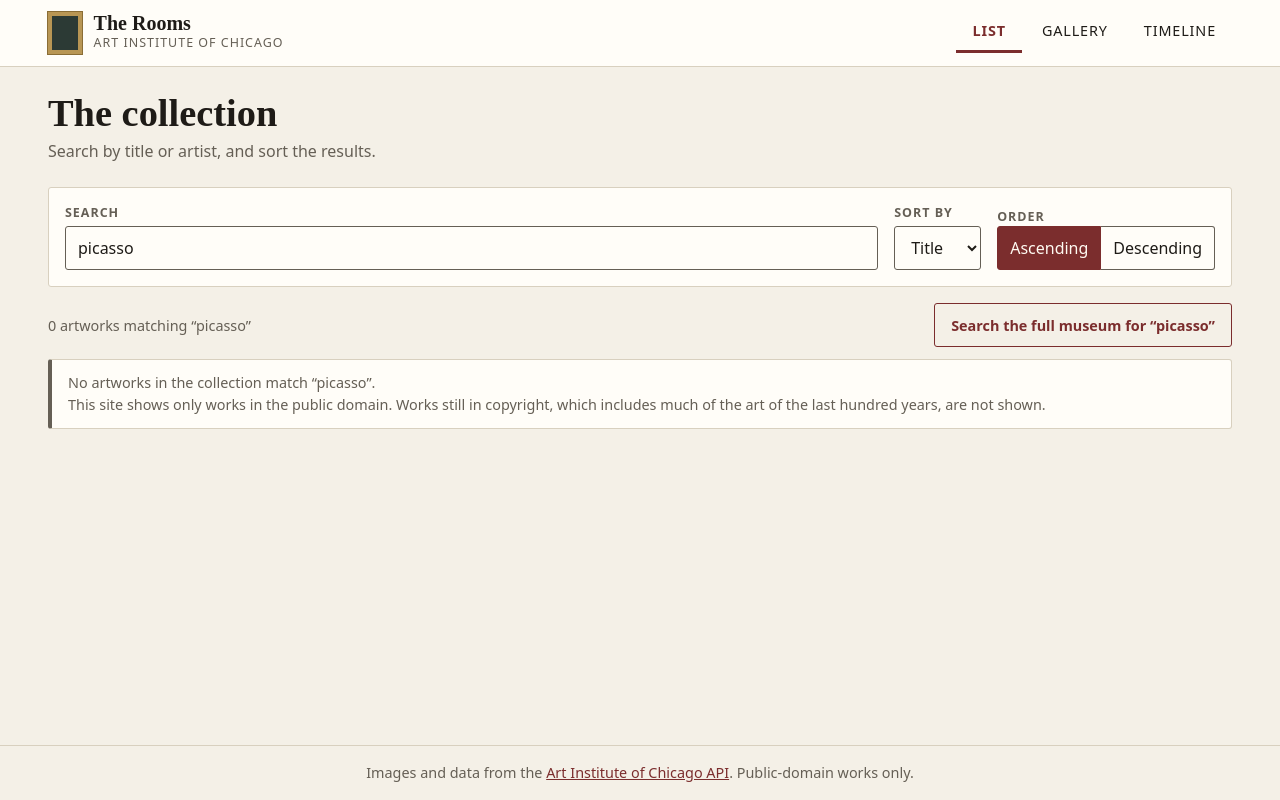
Scenario: ListView › explains it again when the full museum finds nothing either
Expected: the text "0 artworks matching “picasso”" is shown, [48,315,251,336]
Click the button "Search the full museum for “picasso”". click: (1083,326)
box: [934,304,1232,348]
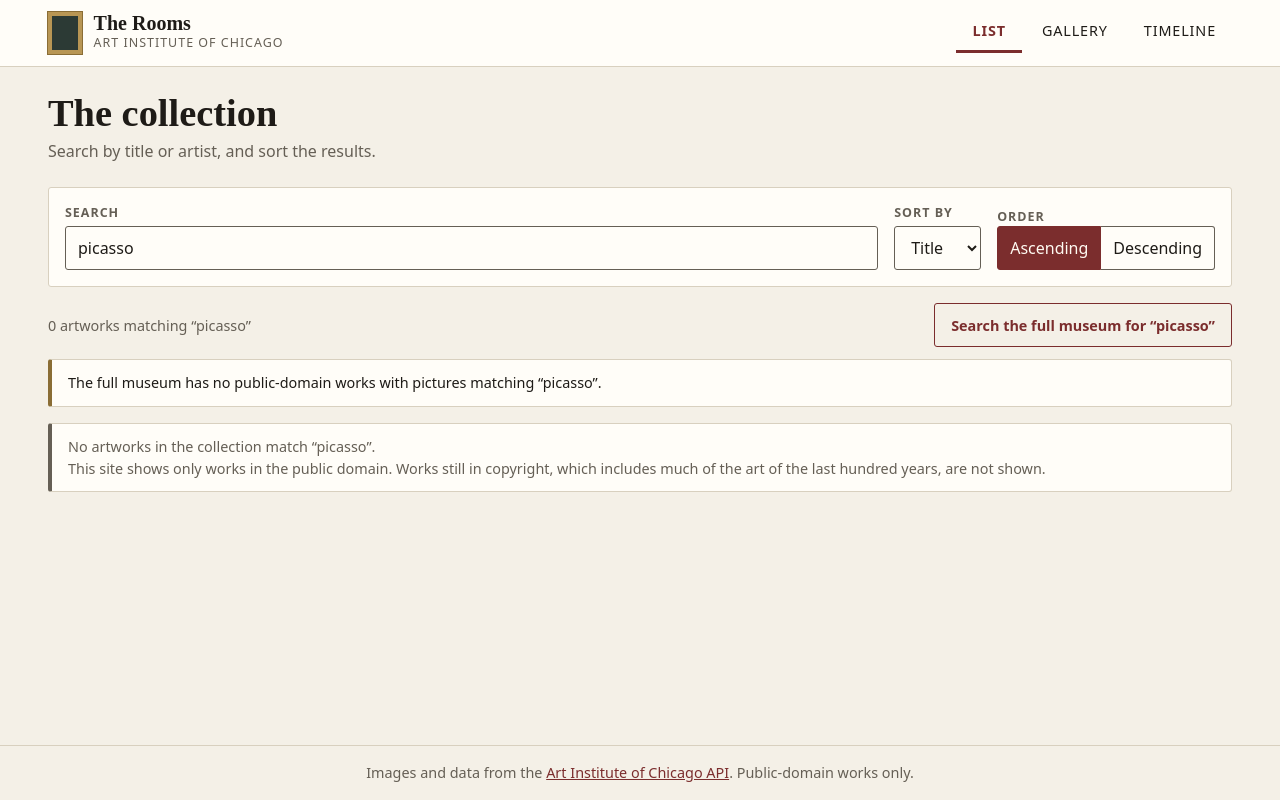
Expected: the text "The full museum has no public-domain works with pictures matching “picasso”" is shown, [68,374,602,392]
